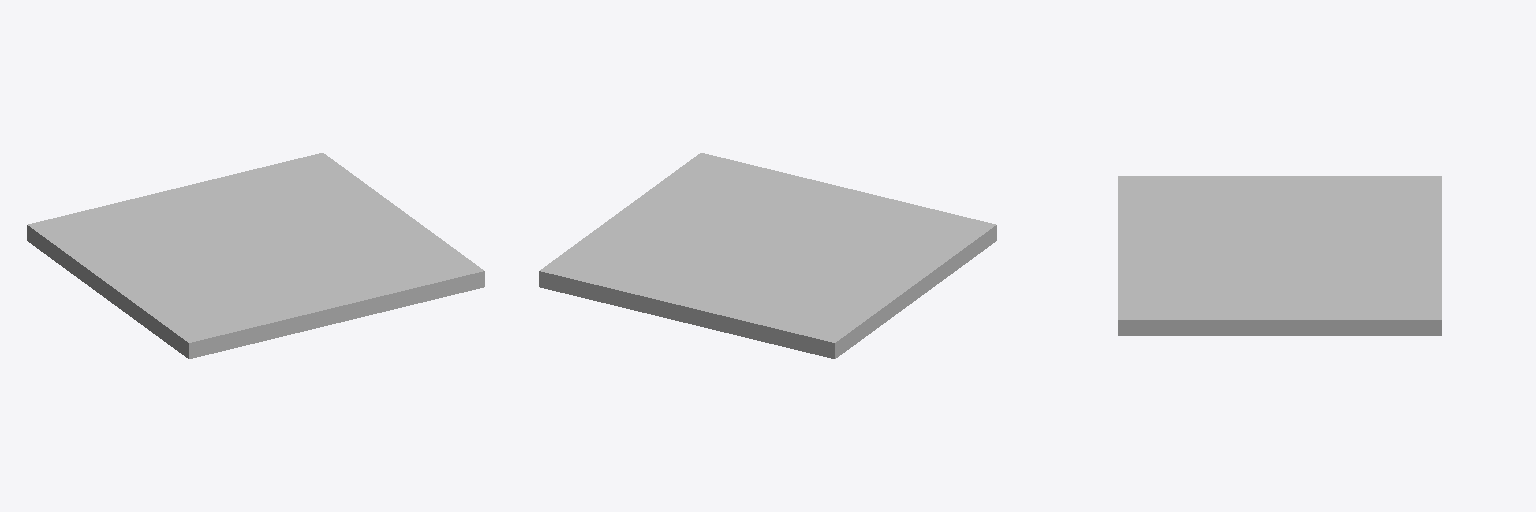
The model's file is large crate.obj.
3 views of the same model, side by side, from view 1: azimuth 30°, elevation 25°; view 2: azimuth 150°, elevation 25°; view 3: azimuth 270°, elevation 25° (orthographic).
Visible parts, largest first — view 1: object 1; view 2: object 1; view 3: object 1.
Part boxes in pixels (bbox=[...]): object 1: bbox=[27, 153, 484, 358]; object 1: bbox=[539, 153, 996, 358]; object 1: bbox=[1118, 176, 1441, 335].
Size of the model in its own units: 1.9 by 0.1 by 1.8.